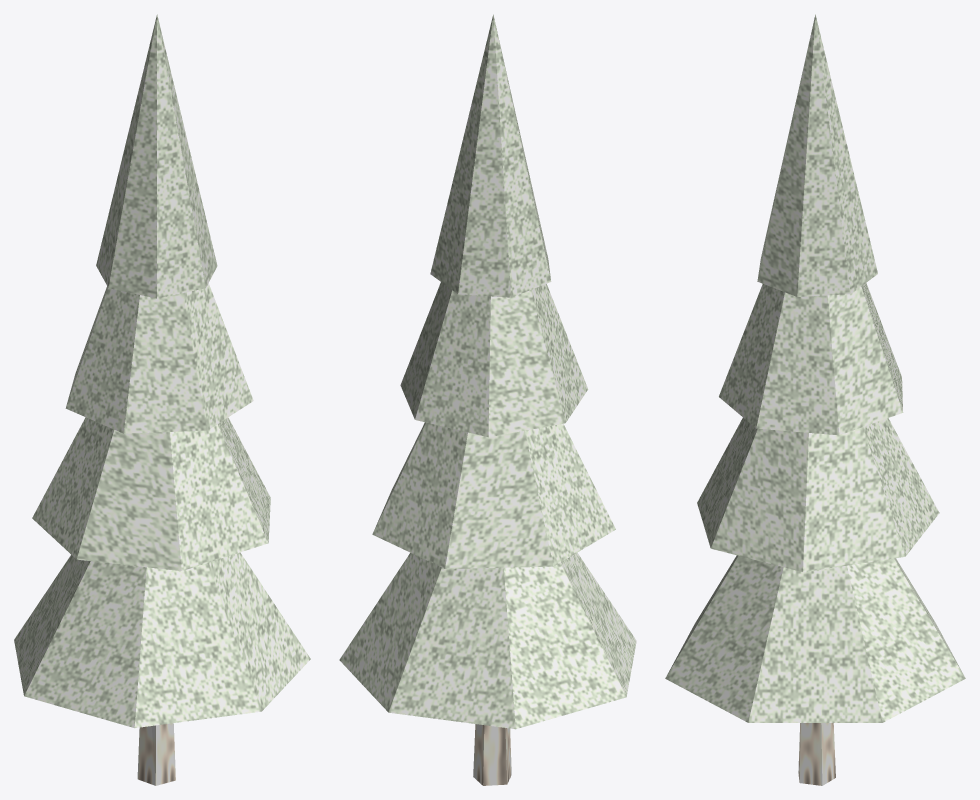
Rendered from abete_b.obj.
The picture shows the model from 3 angles, left to right: view 1: azimuth 30°, elevation 25°; view 2: azimuth 150°, elevation 25°; view 3: azimuth 270°, elevation 25°; orthographic projection.
Visible parts, largest first — view 1: abete_b; view 2: abete_b; view 3: abete_b.
Part boxes in pixels (bbox=[...]): abete_b: bbox=[14, 14, 310, 785]; abete_b: bbox=[339, 14, 636, 785]; abete_b: bbox=[665, 14, 965, 785].
Bounding box in the file's own units: 2.57 × 7.4 × 2.64.
4 materials, 4 textured.
